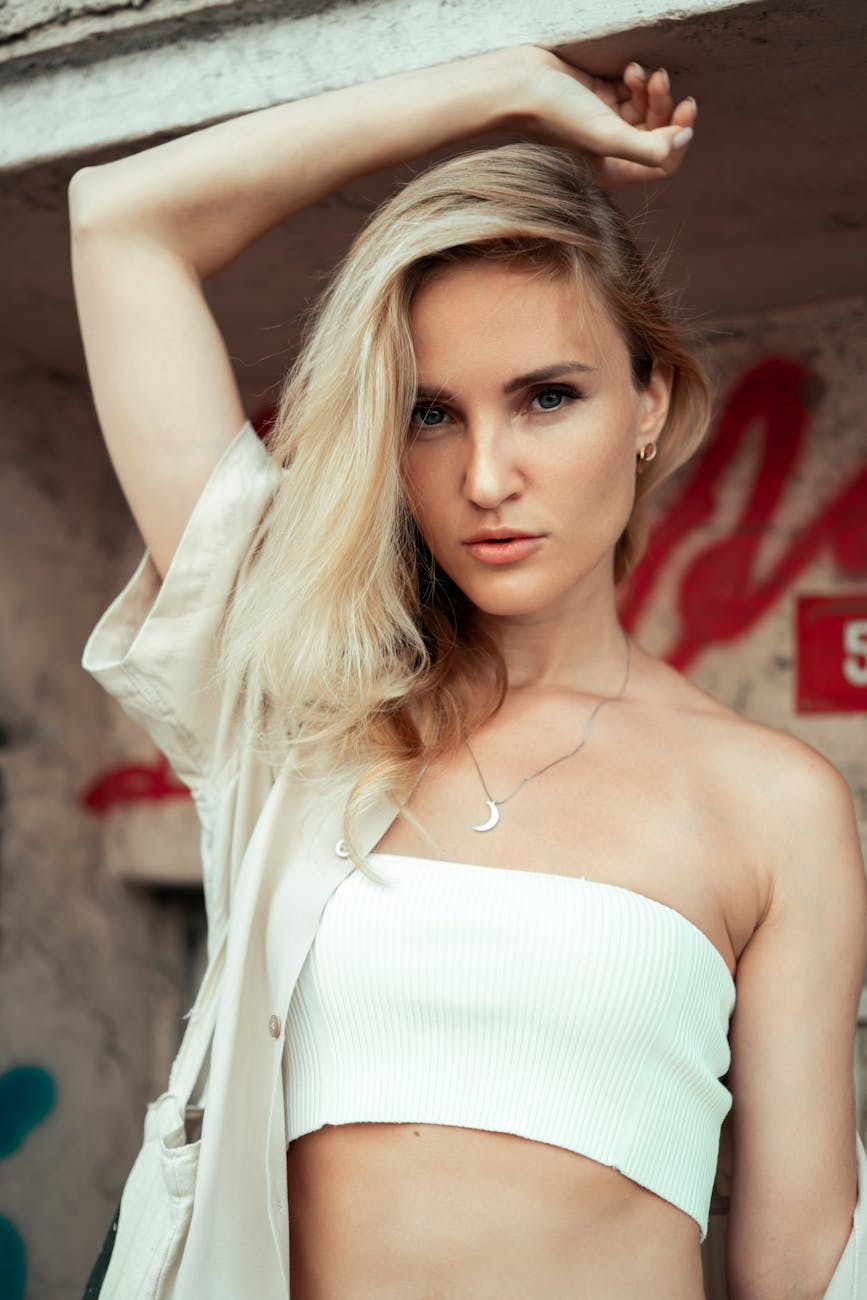crop_top: (183, 614, 790, 1194)
